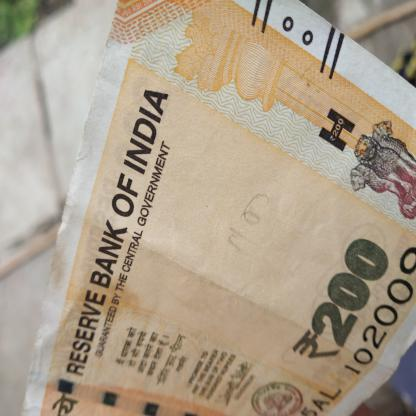New200Front: (51, 0, 415, 415)
